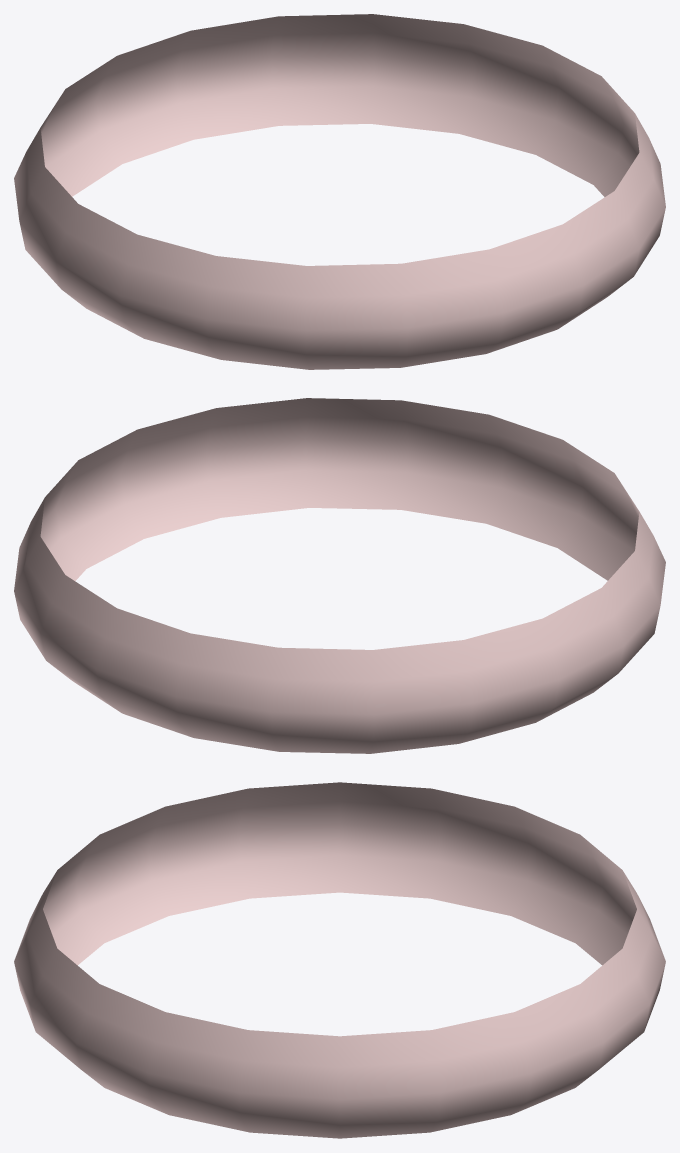
File: Tornado Ring.fbx
The picture shows the model from 3 angles, top to bottom: view 1: azimuth 30°, elevation 25°; view 2: azimuth 150°, elevation 25°; view 3: azimuth 270°, elevation 25°; orthographic projection.
Parts seen in each view (by area): view 1: Tornado_Ring; view 2: Tornado_Ring; view 3: Tornado_Ring.
Boxes of the visible parts, x1,y1,x2,y2 form: Tornado_Ring: [14, 14, 665, 369]; Tornado_Ring: [14, 398, 665, 753]; Tornado_Ring: [14, 782, 665, 1138].
Bounding box in the file's own units: 18.25 × 3.28 × 18.25.
